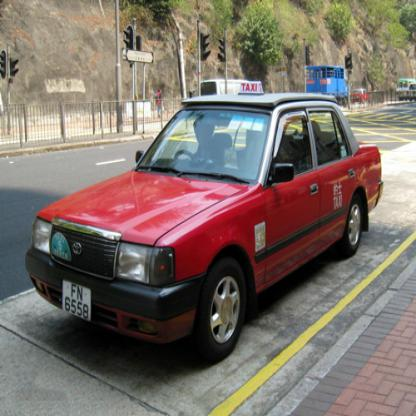taxi: (24, 73, 387, 358)
